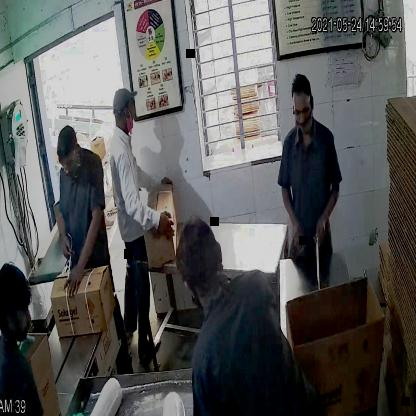goggles: (292, 99, 313, 119), (57, 155, 80, 173)
